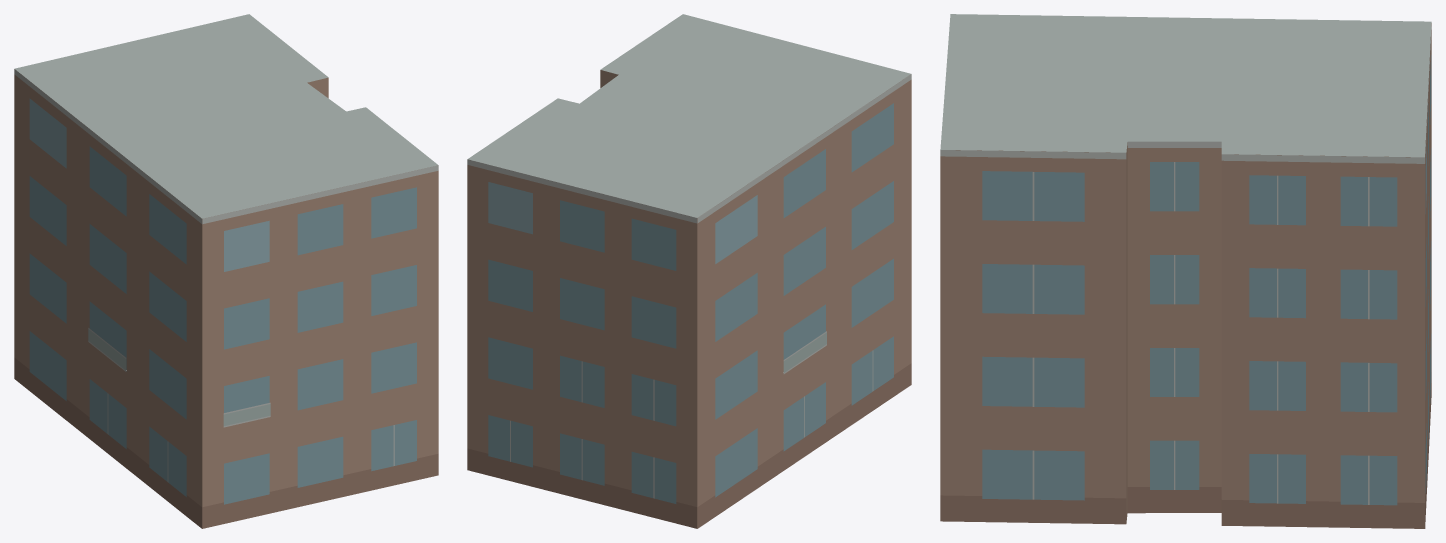
File: survey-upis-32909033.glb
The picture shows the model from 3 angles, left to right: view 1: azimuth 30°, elevation 25°; view 2: azimuth 150°, elevation 25°; view 3: azimuth 270°, elevation 25°; orthographic projection. The views are drawn at different scales.
Visible parts, largest first — view 1: survey-upis-32909033.tmp; view 2: survey-upis-32909033.tmp; view 3: survey-upis-32909033.tmp.
Boxes of the visible parts, x1,y1,x2,y2 form: survey-upis-32909033.tmp: [14, 14, 438, 528]; survey-upis-32909033.tmp: [467, 14, 911, 528]; survey-upis-32909033.tmp: [940, 14, 1431, 528].
Size of the model in its own units: 11.37 by 13.73 by 16.46.
